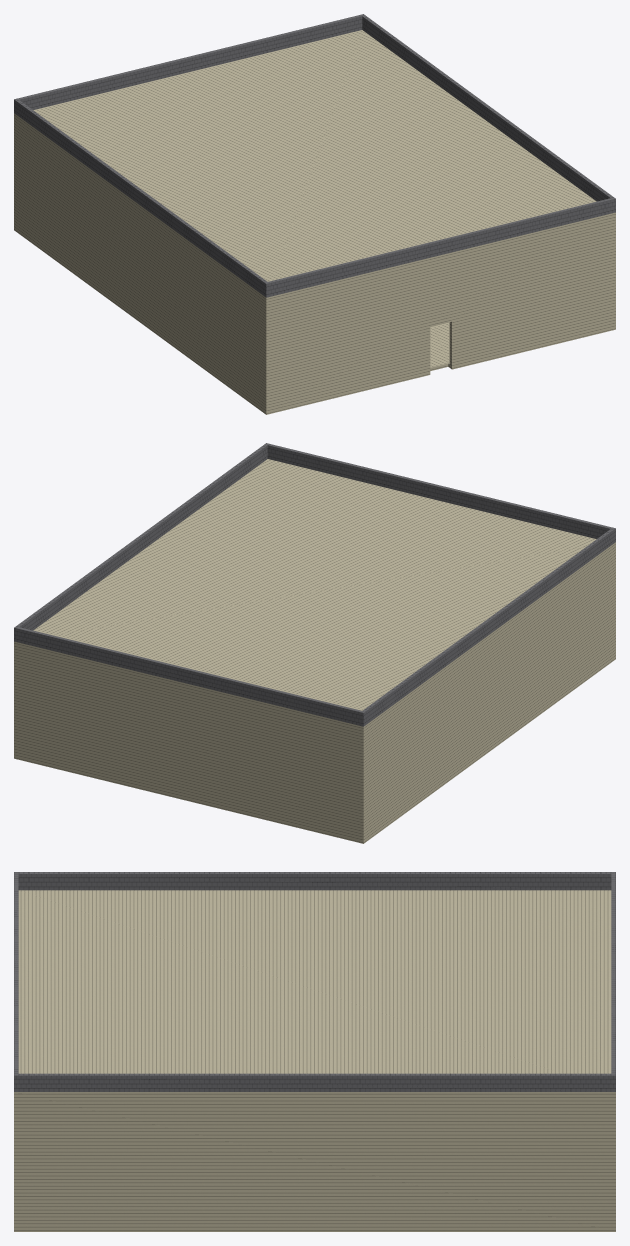
File: fire_department.glb
The picture shows the model from 3 angles, top to bottom: view 1: azimuth 30°, elevation 25°; view 2: azimuth 150°, elevation 25°; view 3: azimuth 270°, elevation 25°; orthographic projection. The views are drawn at different scales.
Visible parts, largest first — view 1: fire_department-col; view 2: fire_department-col; view 3: fire_department-col.
Boxes of the visible parts, x1,y1,x2,y2 form: fire_department-col: (14,14,615,414); fire_department-col: (14,443,615,843); fire_department-col: (14,872,615,1231).
Bounding box in the file's own units: 16 × 5.72 × 20.
2 materials, 2 textured.
